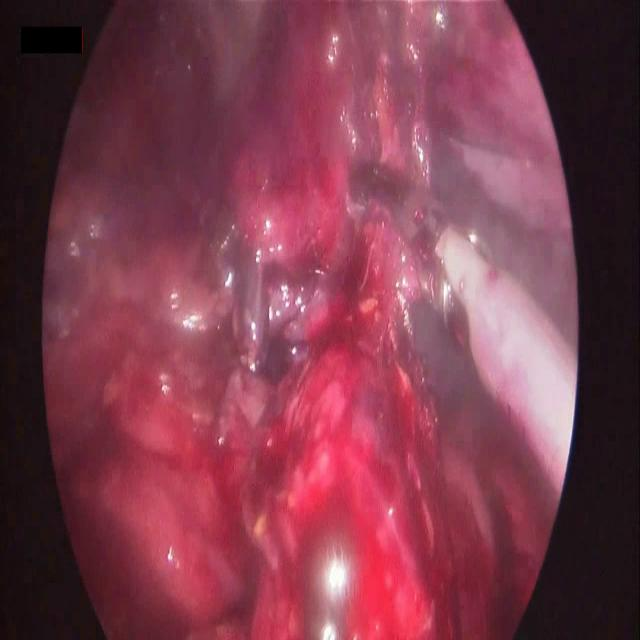surgical-area: (41, 0, 580, 639)
surgical-tool: (410, 203, 577, 496)
